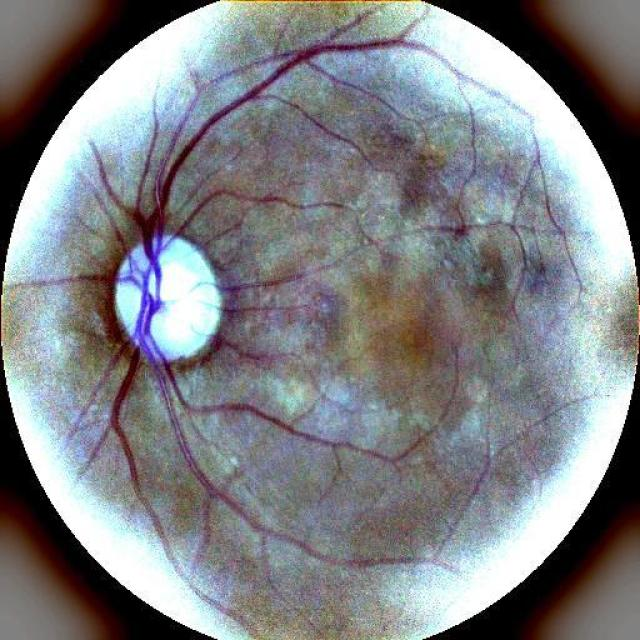Macula: (367, 308, 446, 395)
Nerves: (90, 31, 422, 541), (180, 189, 302, 229), (79, 340, 134, 416), (42, 275, 106, 284), (71, 420, 79, 432)
Optic Disk: (114, 211, 222, 388)
